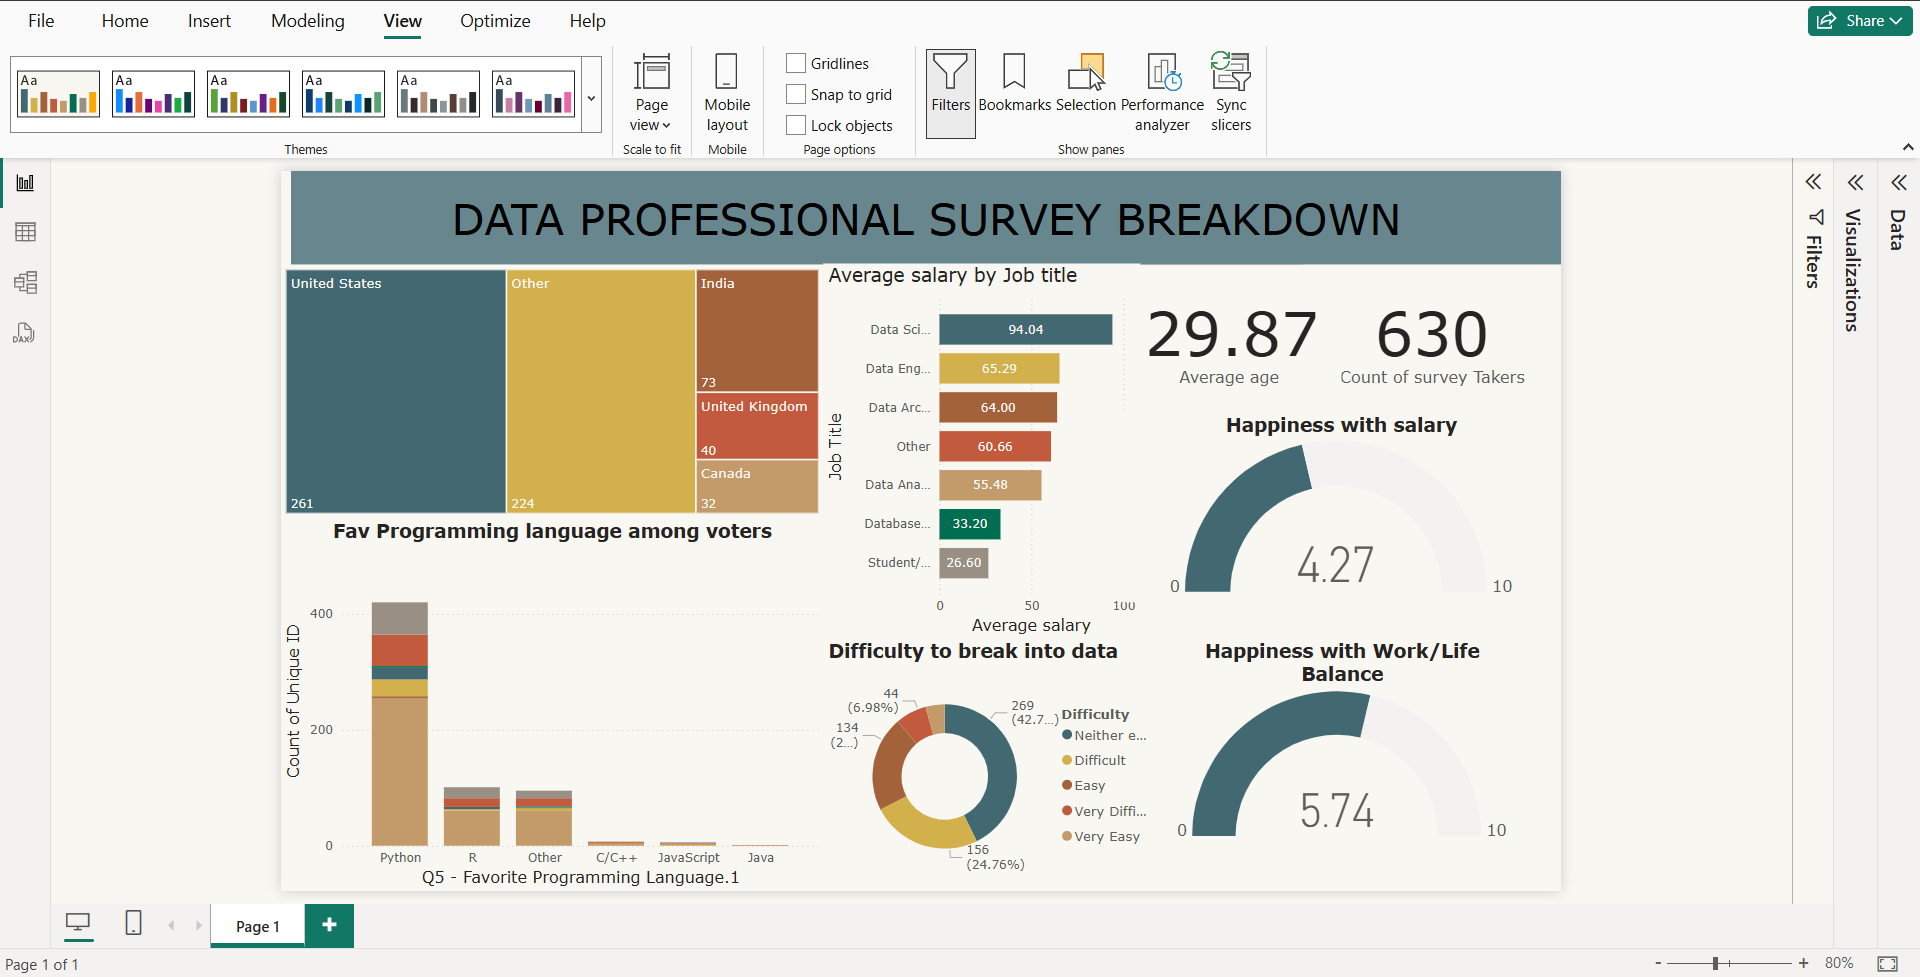

The dashboard page shown, as its layout file describes it:
{"tool":"powerbi","page":{"name":"Page 1","canvas":[1280,720],"ordinal":0},"visuals":[{"type":"textbox","box":[9.6,0,1270.7,93.3],"z":0},{"type":"card","fields":{"Values":["Count(Data Professional Survey.Unique ID)"]},"box":[1022.3,93.3,258,149.6],"z":1000},{"type":"card","fields":{"Values":["Avg(Data Professional Survey.Q10 - Current Age)"]},"box":[841.2,111.1,219.6,115.3],"z":2000},{"type":"barChart","title":"Average salary by Job title","fields":{"Y":["Avg(Data Professional Survey.Average salary)"],"Category":["Data Professional Survey.Q1 - Which Title Best Fits your Current Role?.1"],"Series":["Data Professional Survey.Q1 - Which Title Best Fits your Current Role?.1"]},"box":[542.9,92.9,317.1,375.7],"z":3000},{"type":"treemap","fields":{"Values":["CountNonNull(Data Professional Survey.Unique ID)"],"Group":["Data Professional Survey.Q11 - Which Country do you live in?.1"]},"box":[0,93.8,542.5,253.8],"z":4000},{"type":"gauge","title":"Happiness with salary","fields":{"Y":["Avg(Data Professional Survey.Q6 - How Happy are you in your Current Position with the following? (Salary))"],"MaxValue":["Max(Data Professional Survey.Q6 - How Happy are you in your Current Position with the following? (Salary))"],"MinValue":["Min(Data Professional Survey.Q6 - How Happy are you in your Current Position with the following? (Salary))1"]},"box":[841.4,242.9,438.6,188.6],"z":5000},{"type":"gauge","title":"Happiness with Work/Life Balance","fields":{"Y":["Avg(Data Professional Survey.Q6 - How Happy are you in your Current Position with the following? (Work/Life Balance))"],"MinValue":["Min(Data Professional Survey.Q6 - How Happy are you in your Current Position with the following? (Work/Life Balance))"],"MaxValue":["Max(Data Professional Survey.Q6 - How Happy are you in your Current Position with the following? (Work/Life Balance))"]},"box":[885.7,468.6,350,208.6],"z":6000},{"type":"donutChart","title":"Difficulty to break into data","fields":{"Y":["CountNonNull(Data Professional Survey.Q1 - Which Title Best Fits your Current Role?.1)"],"Category":["Data Professional Survey.Q7 - How difficult was it for you to break into Data?"]},"box":[542.9,468.6,342.9,251.4],"z":7000},{"type":"columnChart","title":"Fav Programming language among voters","fields":{"Y":["CountNonNull(Data Professional Survey.Unique ID)"],"Category":["Data Professional Survey.Q5 - Favorite Programming Language.1"],"Series":["Data Professional Survey.Q1 - Which Title Best Fits your Current Role?.1"]},"box":[0,348.6,542.9,371.4],"z":8000}]}

Visuals, with their boxes on the page's 1280x720 design canvas (x1, y1, x2, y2). These are canvas units, not pixel positions in the 1920x977 screenshot, which may show the page scaled, cropped or inside an application window:
textbox: box=[10, 0, 1280, 93]
card - Count(Data Professional Survey.Unique ID): box=[1022, 93, 1280, 243]
card - Avg(Data Professional Survey.Q10 - Current Age): box=[841, 111, 1061, 226]
"Average salary by Job title" barChart: box=[543, 93, 860, 469]
treemap - CountNonNull(Data Professional Survey.Unique ID) x Data Professional Survey.Q11 - Which Country do you live in?.1: box=[0, 94, 542, 348]
"Happiness with salary" gauge: box=[841, 243, 1280, 432]
"Happiness with Work/Life Balance" gauge: box=[886, 469, 1236, 677]
"Difficulty to break into data" donutChart: box=[543, 469, 886, 720]
"Fav Programming language among voters" columnChart: box=[0, 349, 543, 720]
